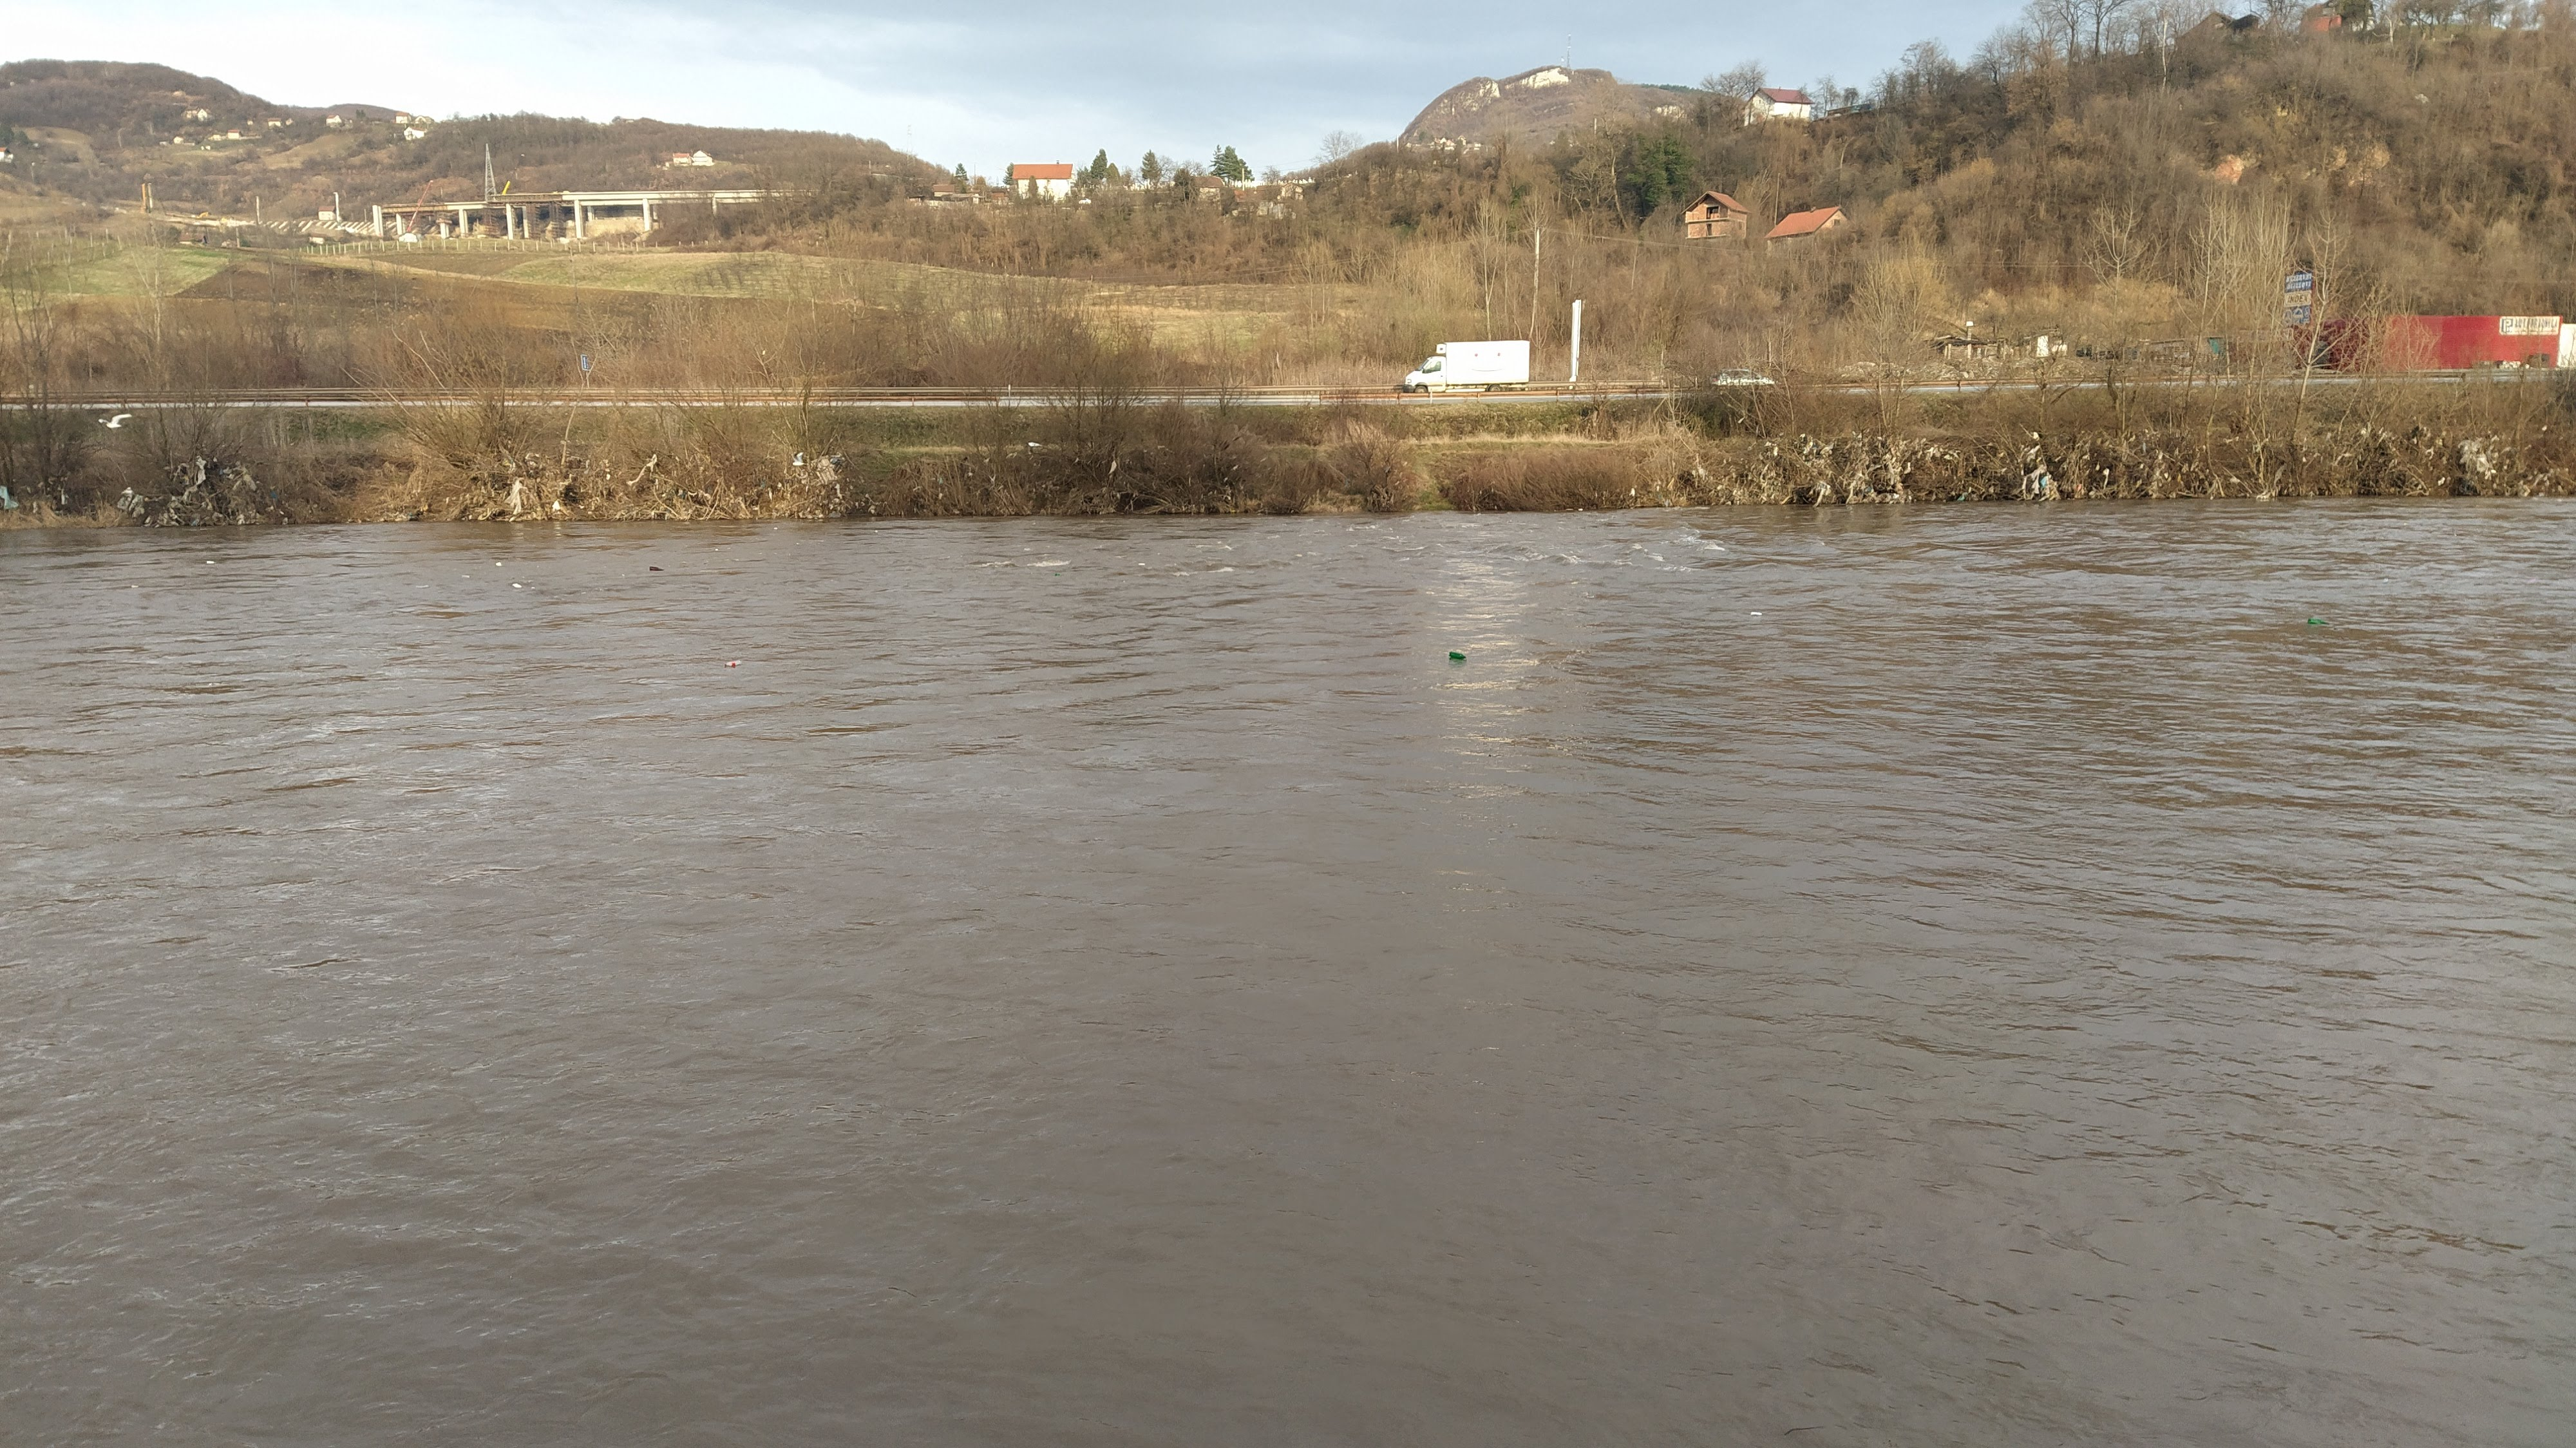Plastic Bottle: (2307, 618, 2328, 625), (1449, 651, 1465, 660), (725, 660, 741, 667), (649, 566, 663, 572), (1750, 611, 1762, 616), (2381, 577, 2388, 584), (131, 584, 138, 588), (205, 561, 214, 563), (462, 575, 469, 577), (1054, 572, 1058, 575)
